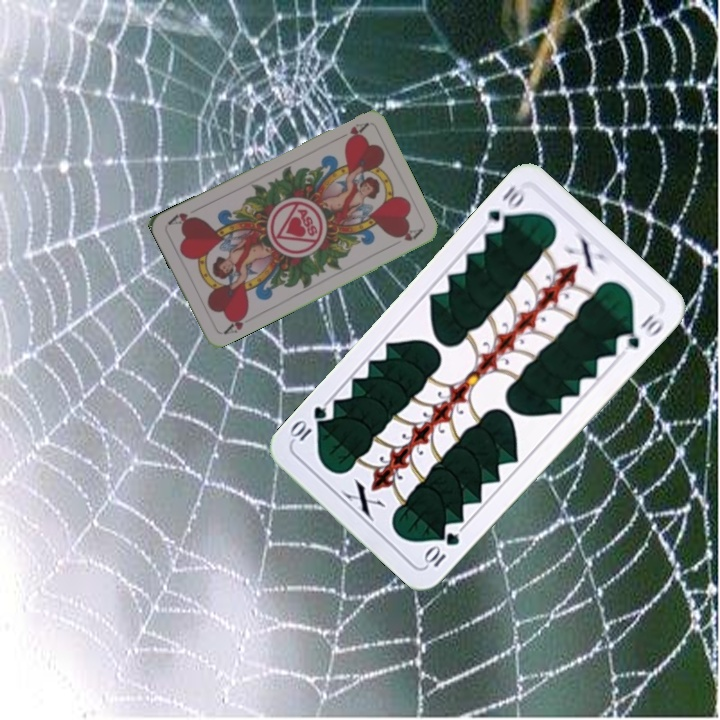G10: (479, 181, 528, 236), (420, 528, 463, 570)
HA: (332, 118, 371, 146), (219, 307, 251, 337)
